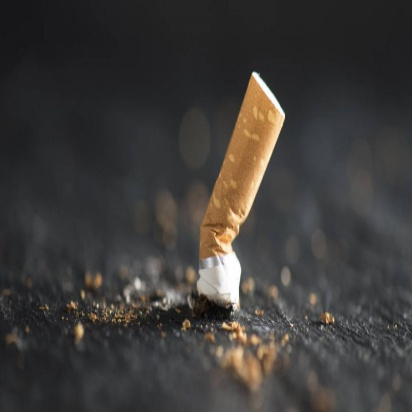cigarette: (181, 62, 294, 331)
